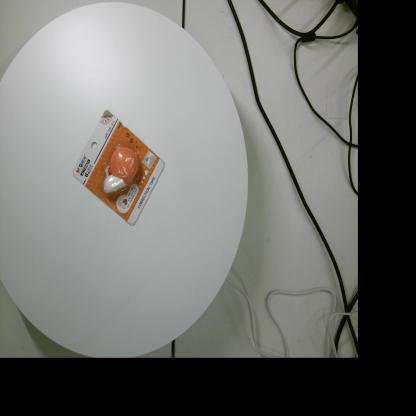Stationery: (72, 110, 164, 226)
